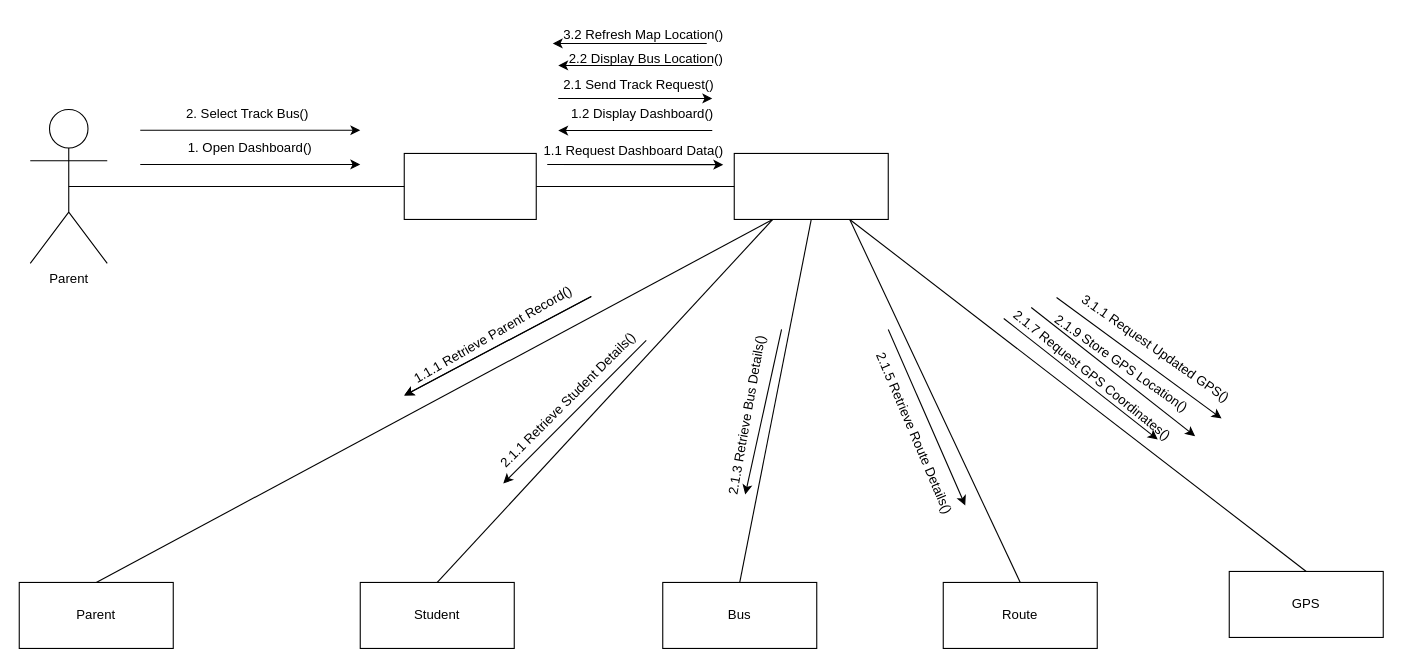
Image size: 1403x668. Some labels were removed from this diagram. The shapes that lost their labels are listed below. From the top down, each one's centre as x and y in pixels, then its label:
point 469,185: ParentDashboardUI
point 810,185: BusTrackingController
